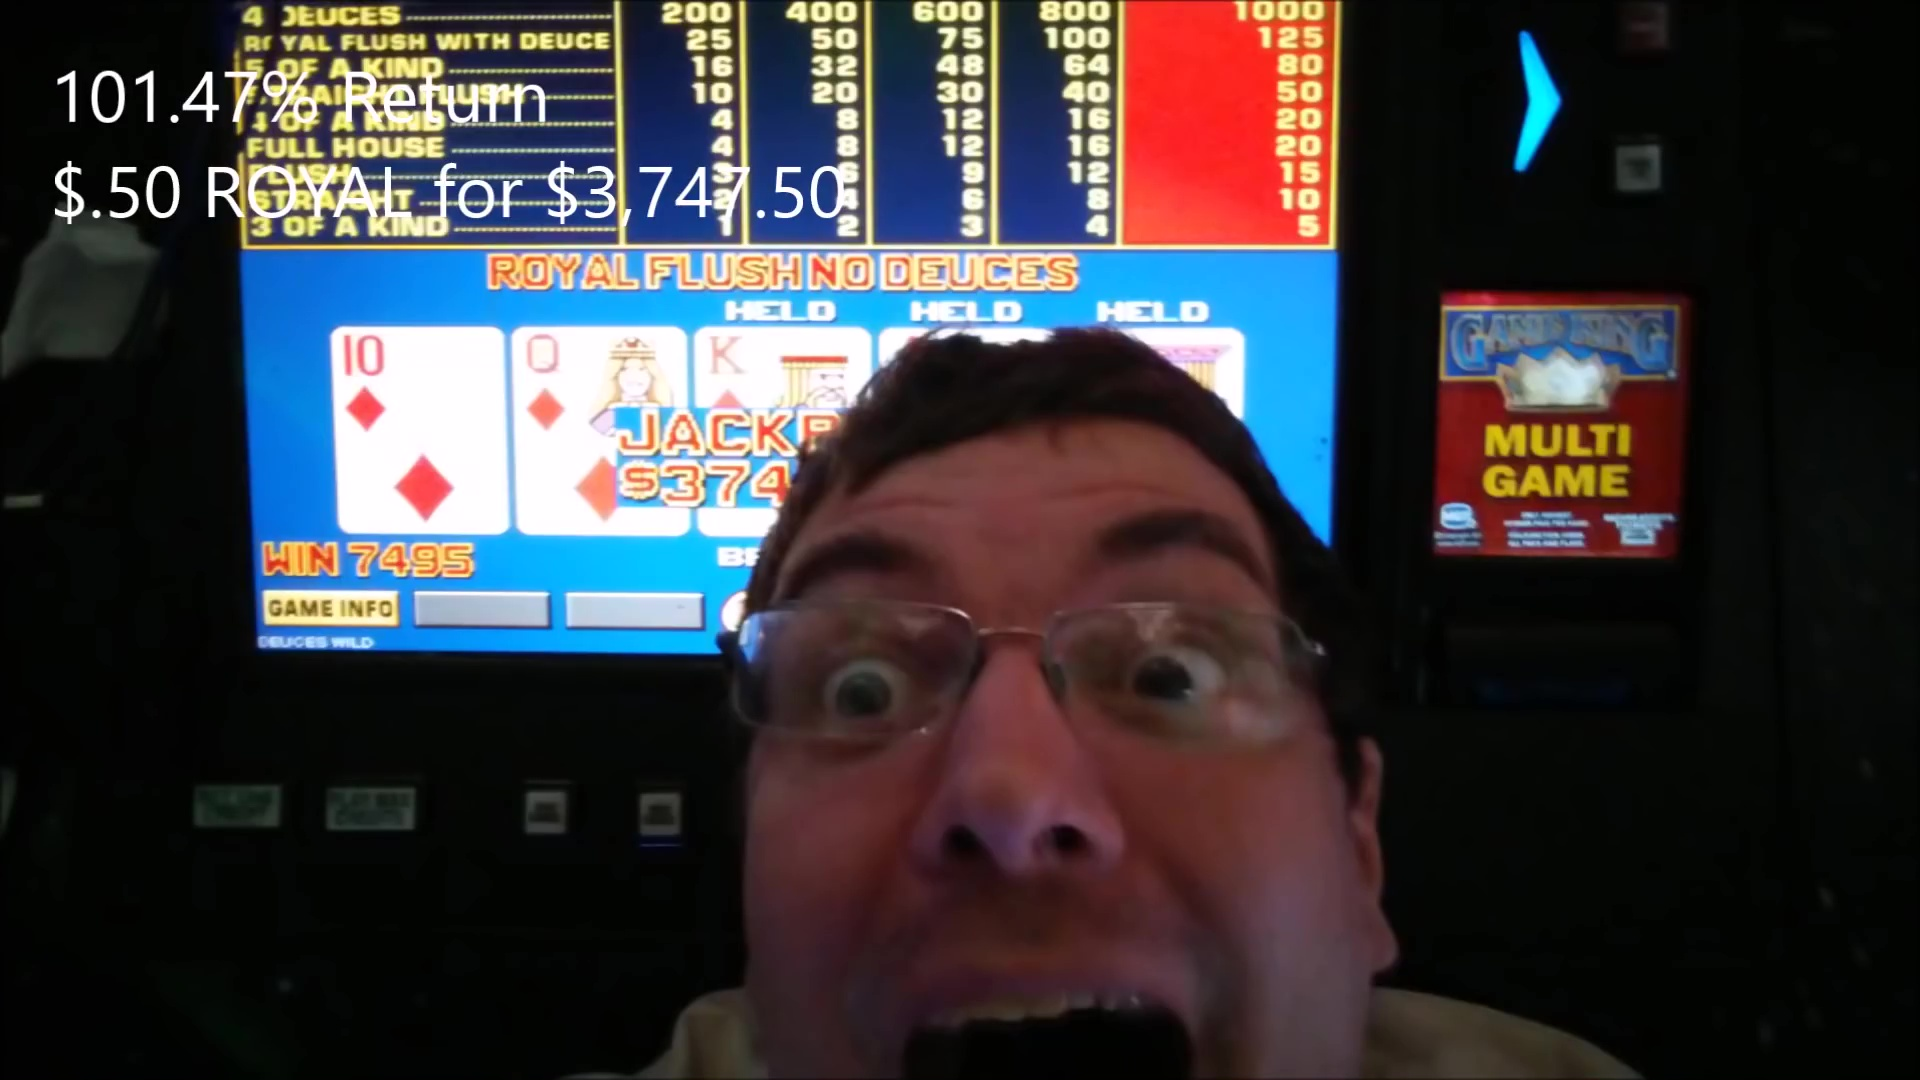TD: (334, 328, 502, 433)
